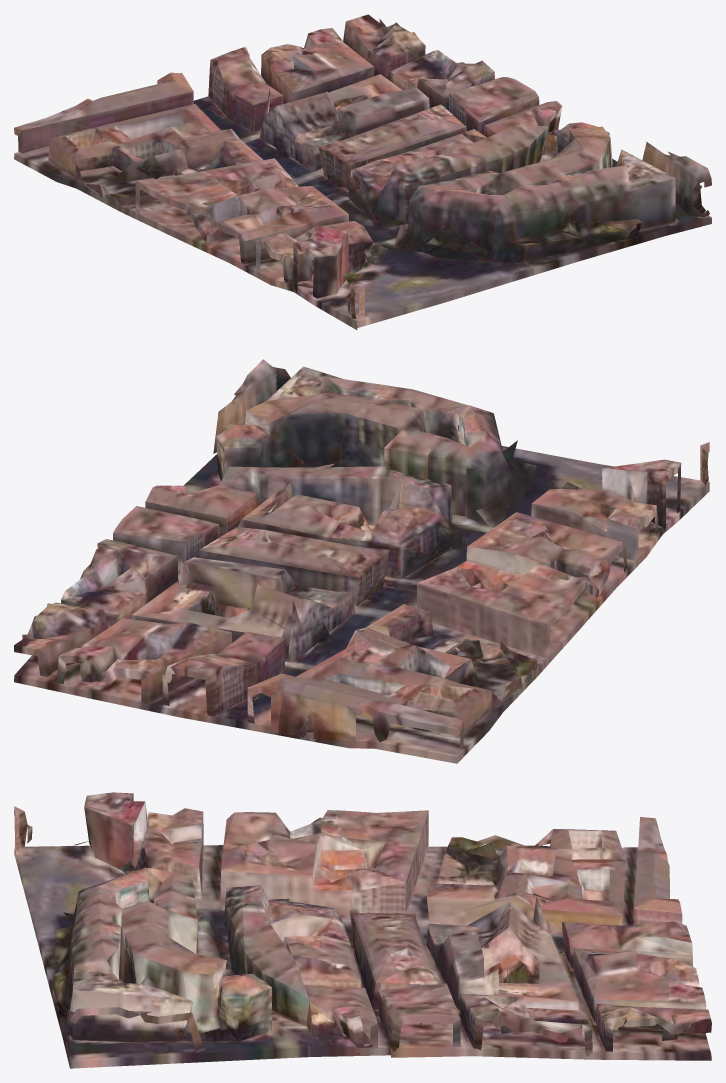
The picture shows the model from 3 angles, top to bottom: view 1: azimuth 30°, elevation 25°; view 2: azimuth 150°, elevation 25°; view 3: azimuth 270°, elevation 25°; orthographic projection. The views are drawn at different scales.
Parts seen in each view (by area): view 1: Mesh_0; view 2: Mesh_0; view 3: Mesh_0.
Part boxes in pixels (box(x1,y1,x2,y2)): Mesh_0: box(14, 14, 711, 329); Mesh_0: box(14, 359, 709, 763); Mesh_0: box(14, 792, 711, 1068).
Bounding box in the file's own units: 266 × 54.34 × 330.
2 materials, 2 textured.
